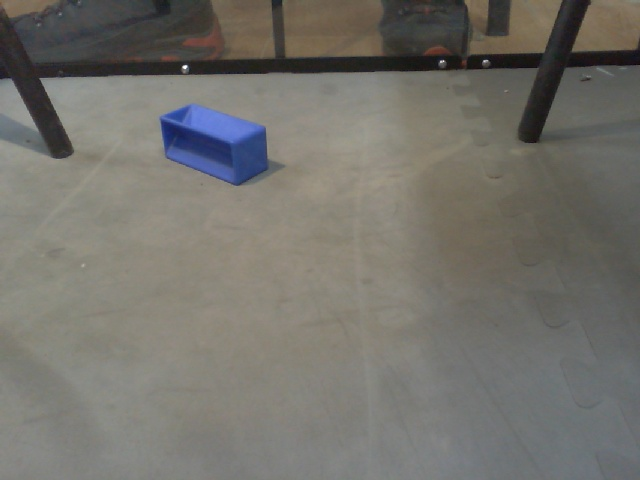BlueSample: (154, 103, 275, 190)
